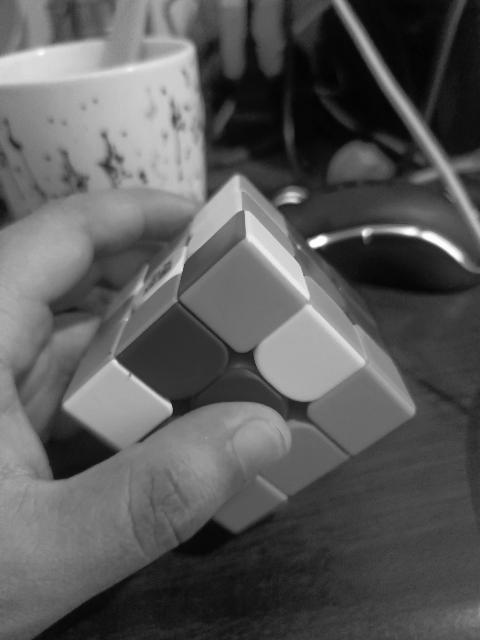rubik: (59, 172, 417, 534)
